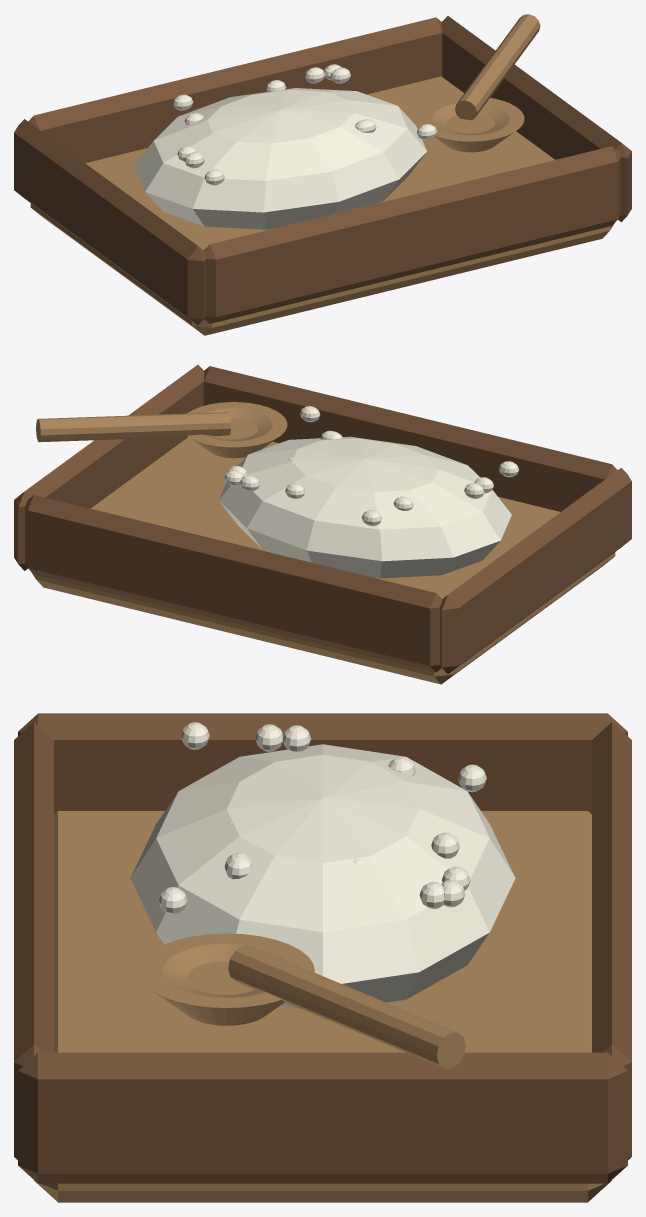
3 renders of one model, top to bottom at view 1: azimuth 30°, elevation 25°; view 2: azimuth 150°, elevation 25°; view 3: azimuth 270°, elevation 25°, orthographic. The views are drawn at different scales.
Visible parts, largest first — view 1: BA-0047 batched; view 2: BA-0047 batched; view 3: BA-0047 batched.
Boxes of the visible parts, x1,y1,x2,y2 form: BA-0047 batched: [14, 14, 631, 335]; BA-0047 batched: [14, 364, 631, 684]; BA-0047 batched: [14, 713, 631, 1202].
Bounding box in the file's own units: 0.5604 × 0.145 × 0.385.
